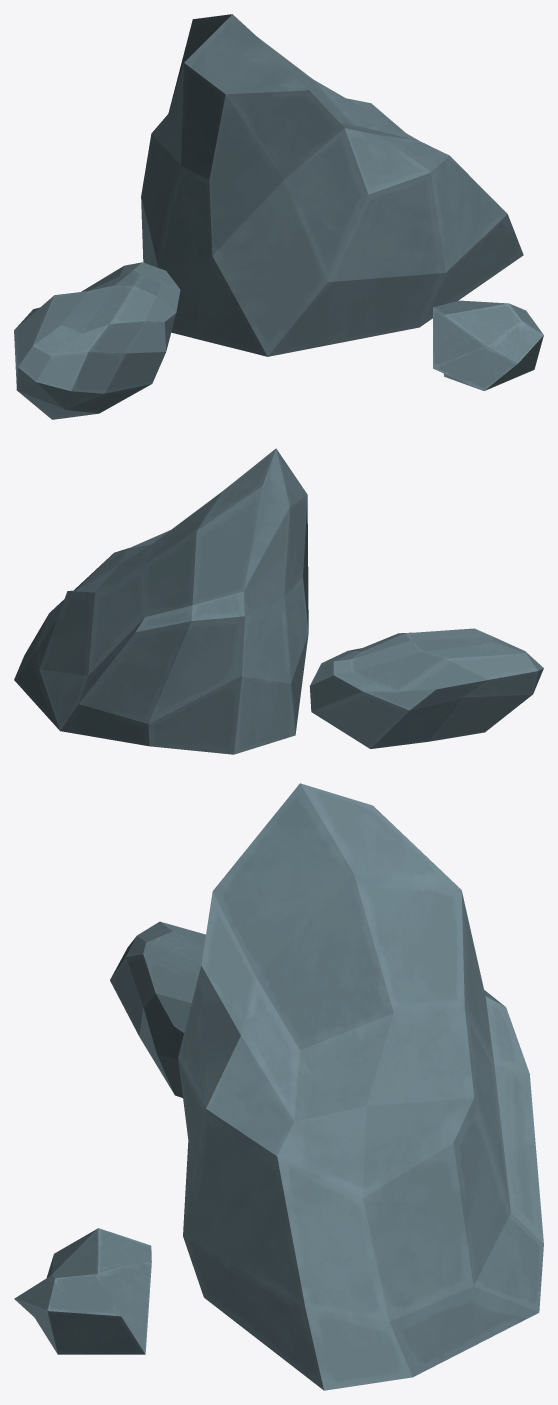
Rendered from Rock_Model.fbx.
3 views of the same model, one above another, from view 1: azimuth 30°, elevation 25°; view 2: azimuth 150°, elevation 25°; view 3: azimuth 270°, elevation 25° (orthographic). The views are drawn at different scales.
Parts seen in each view (by area): view 1: pPlatonic3, pPlatonic4, pPlatonic5; view 2: pPlatonic3, pPlatonic4; view 3: pPlatonic3, pPlatonic5, pPlatonic4.
Boxes of the visible parts, x1,y1,x2,y2 form: pPlatonic3: (141,14,523,356); pPlatonic4: (14,262,180,419); pPlatonic5: (433,300,543,390); pPlatonic3: (14,448,308,754); pPlatonic4: (309,628,543,748); pPlatonic3: (178,783,543,1390); pPlatonic5: (14,1228,151,1354); pPlatonic4: (110,921,205,1097).
Bounding box in the file's own units: 4.29 × 2.44 × 2.67.
3 materials, 3 textured.
